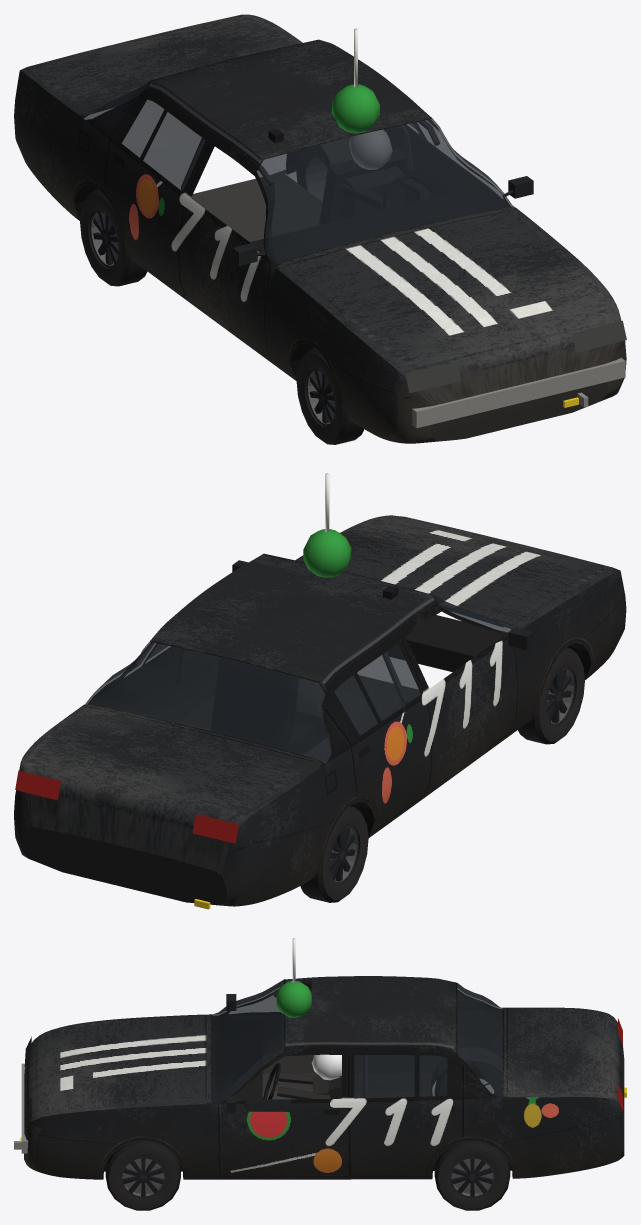
The picture shows the model from 3 angles, top to bottom: view 1: azimuth 30°, elevation 25°; view 2: azimuth 150°, elevation 25°; view 3: azimuth 270°, elevation 25°; orthographic projection. The views are drawn at different scales.
Parts seen in each view (by area): view 1: body, wheel_rr, wheel_fr, wheel_rl; view 2: body, wheel_rr, wheel_fr; view 3: body, wheel_fl, wheel_rl, wheel_rr.
Part boxes in pixels (x1=…): body: x1=14, y1=14, x2=626, y2=443; wheel_rr: x1=80, y1=189, x2=147, y2=286; wheel_fr: x1=296, y1=348, x2=364, y2=444; wheel_rl: x1=296, y1=145, x2=330, y2=200; body: x1=14, y1=473, x2=626, y2=909; wheel_rr: x1=300, y1=806, x2=368, y2=902; wheel_fr: x1=518, y1=647, x2=584, y2=744; body: x1=14, y1=938, x2=626, y2=1179; wheel_fl: x1=105, y1=1140, x2=180, y2=1210; wheel_rl: x1=434, y1=1141, x2=510, y2=1210; wheel_rr: x1=435, y1=1061, x2=502, y2=1097.
Bounding box in the file's own units: 2.06 × 2.05 × 4.88.
2 materials, 1 textured.
